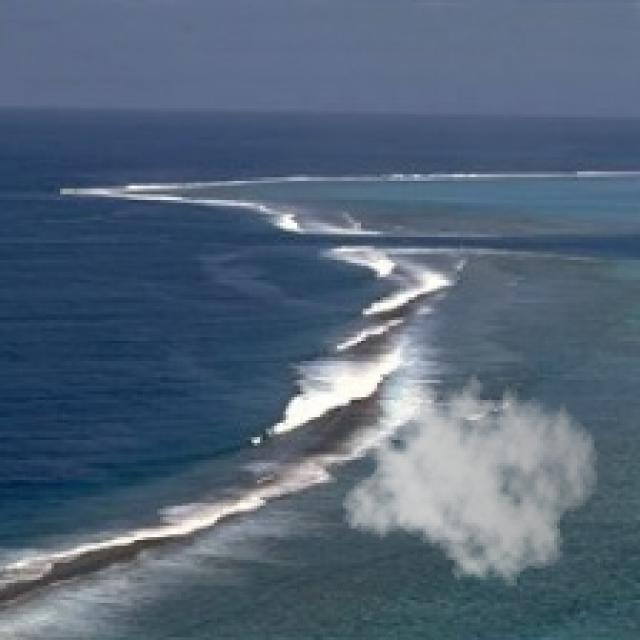smoke: (340, 363, 600, 594)
